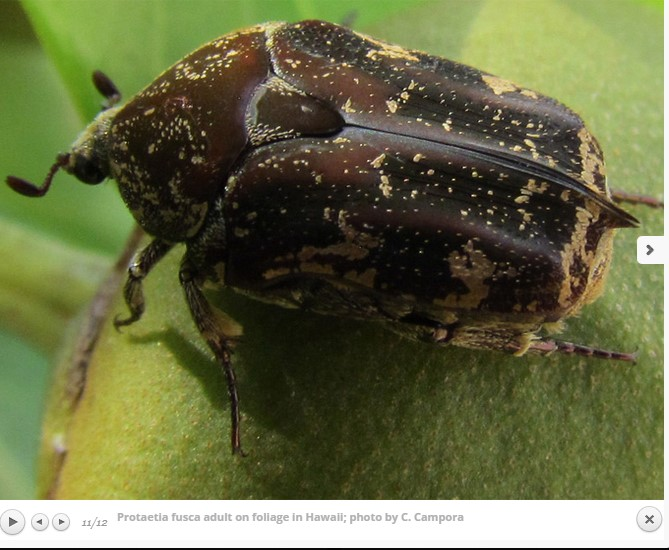Protaetia_fusca: (8, 17, 640, 461)
